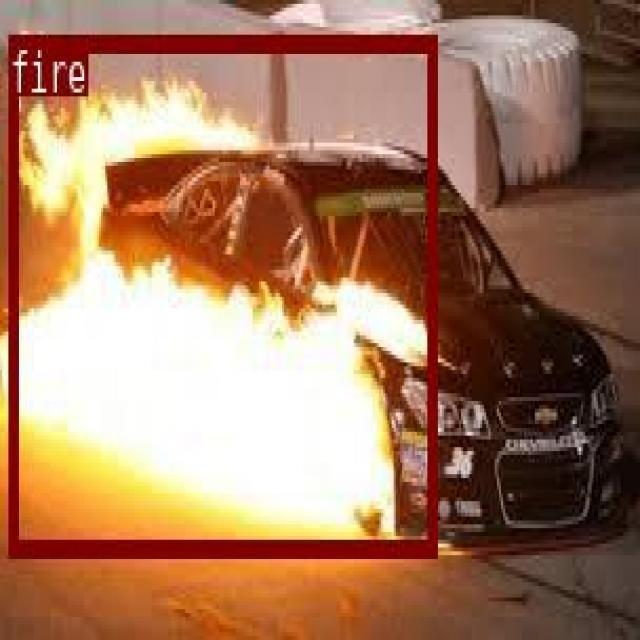fire: (8, 33, 434, 553)
